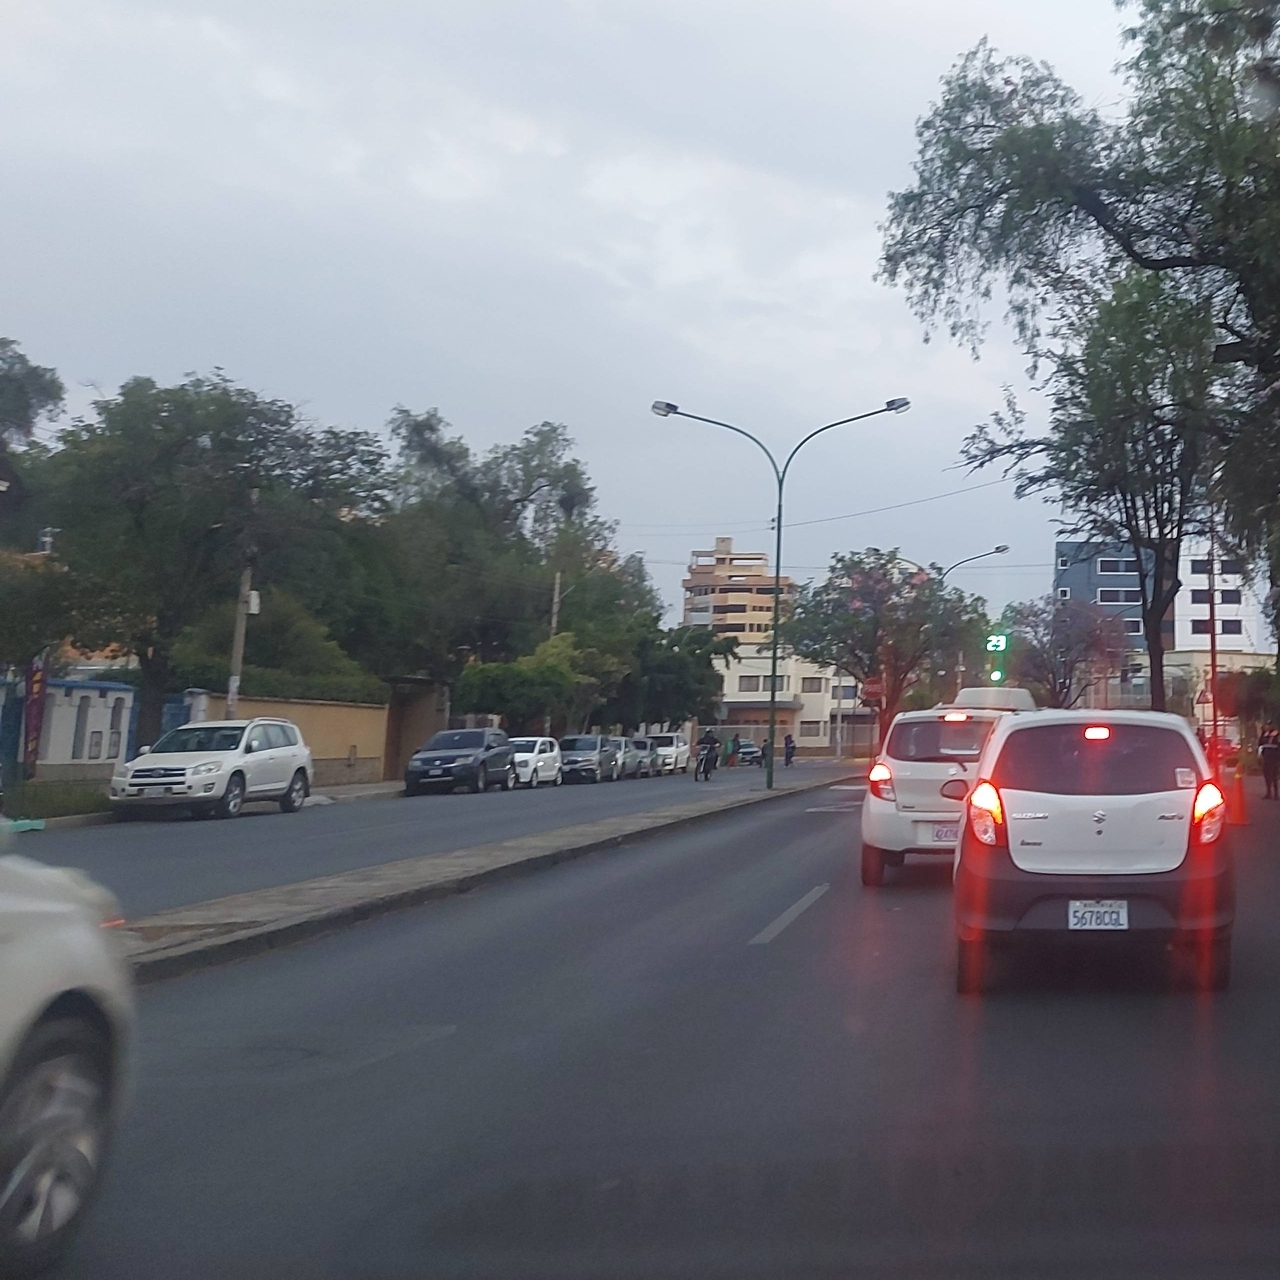pare: (860, 675, 883, 701)
